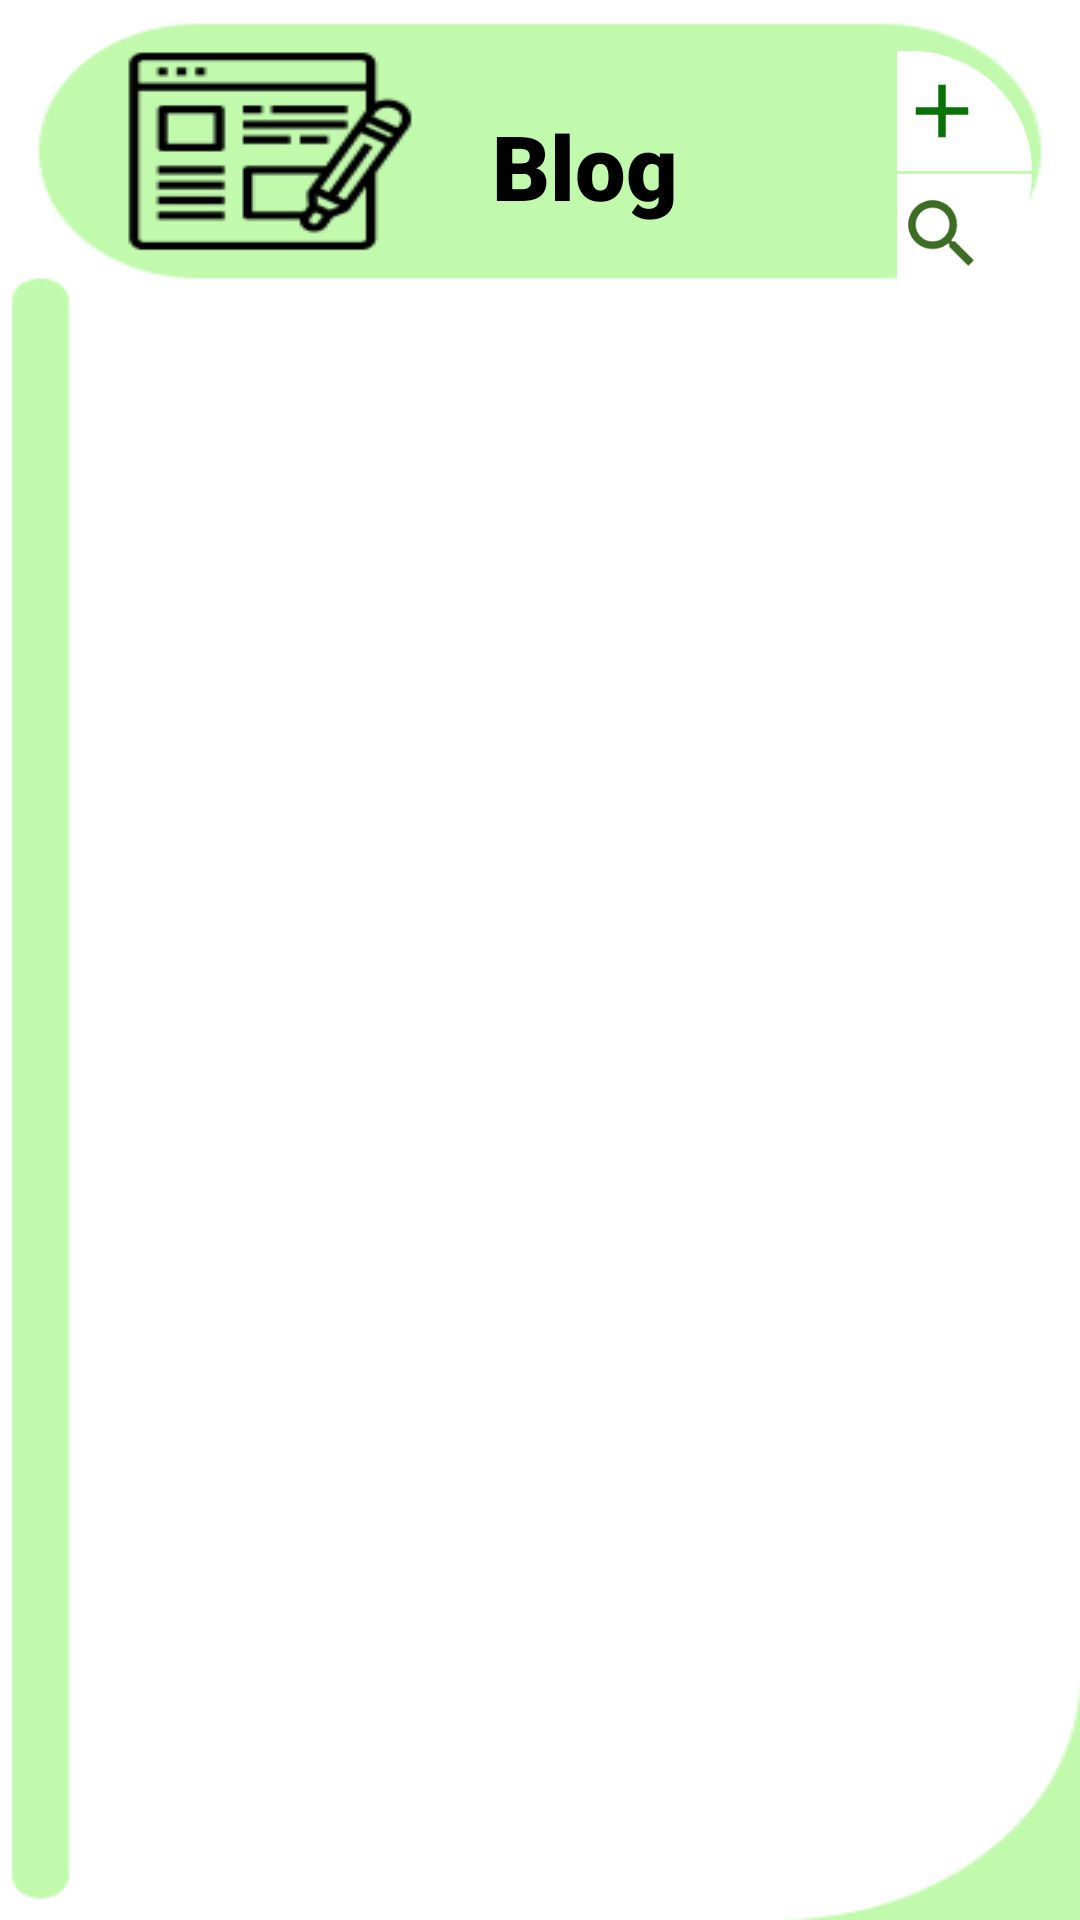

Named icons in this screenshot (1080px x 1920px) and their bounding boxes, (x1, y1, x2, y2):
add: (915, 84, 969, 138)
search: (908, 200, 974, 266)
